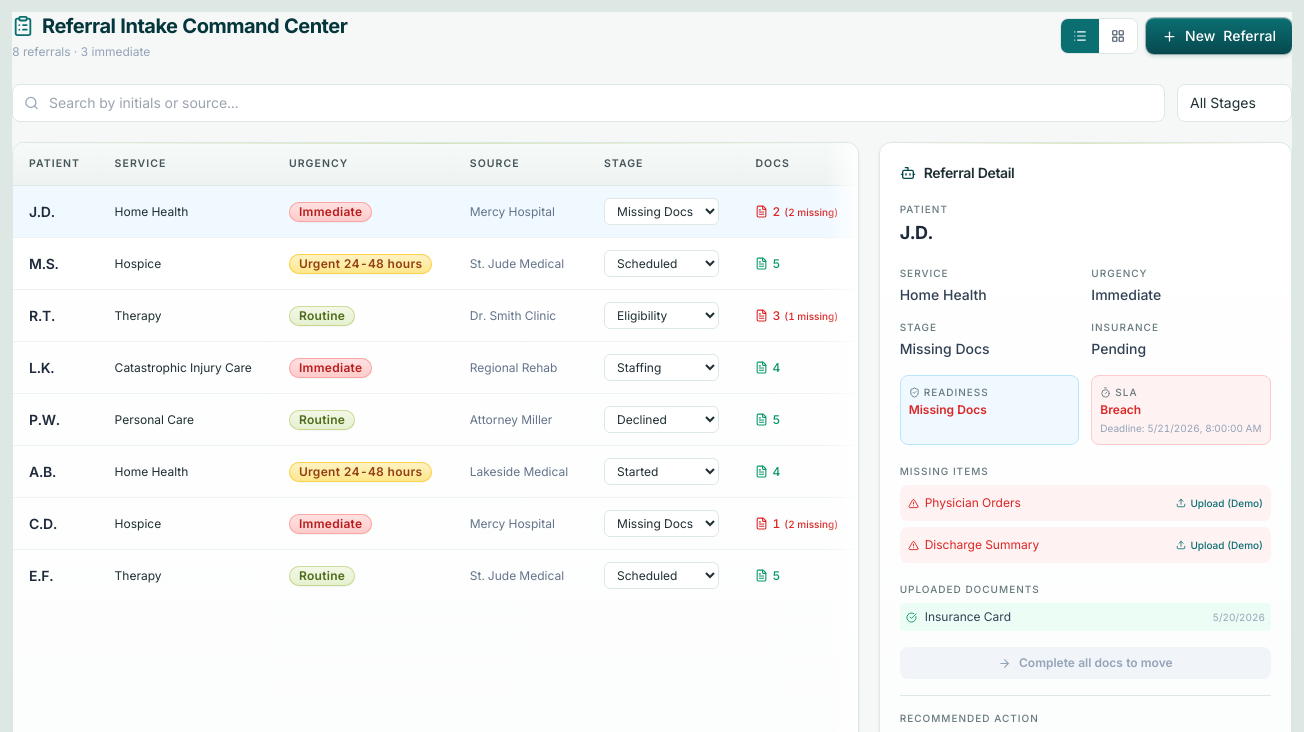
Test case: userEvent · 2. Upload final document changes readiness › uploading every missing item enables "Move to Eligibility"
The width and height of the screenshot is (1304, 732).
Click the 1st button "Upload (Demo)": (1220, 503) [1176,493,1263,513]
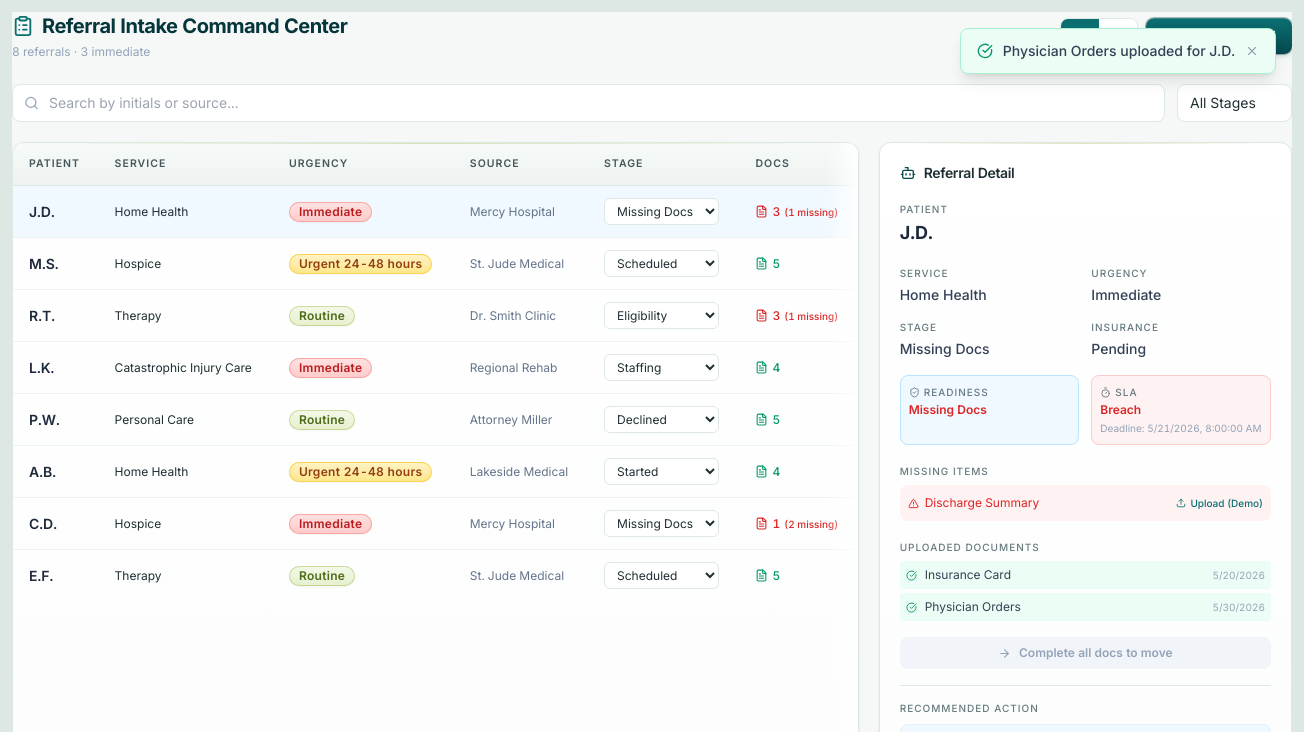
Click the button "Upload (Demo)": (1220, 503) [1176,493,1263,513]
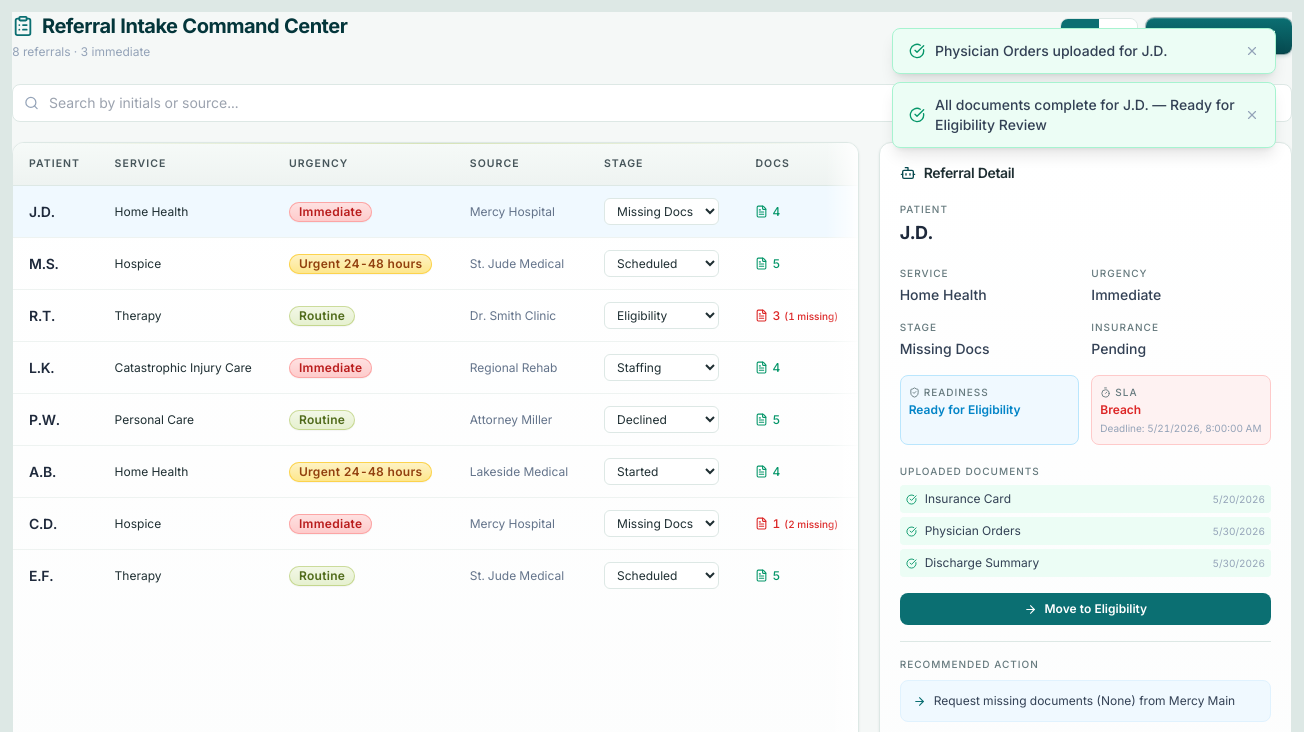
Result: the button "Move to Eligibility" is enabled at [900,593,1271,625]
